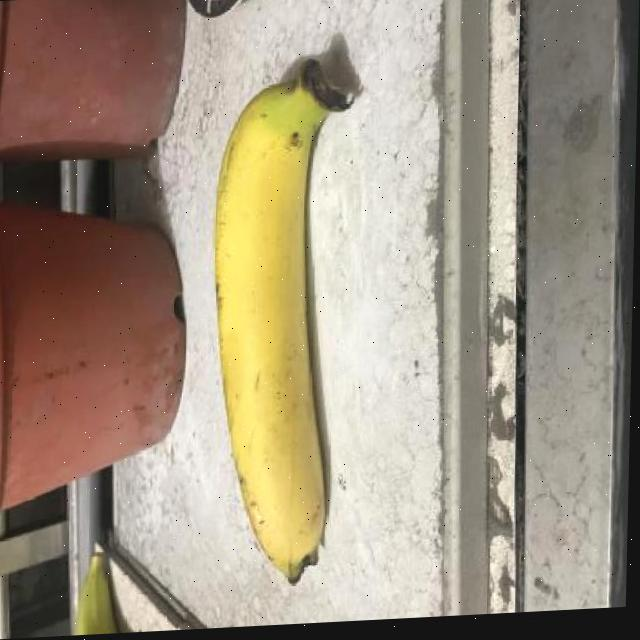banana: (204, 47, 361, 592)
